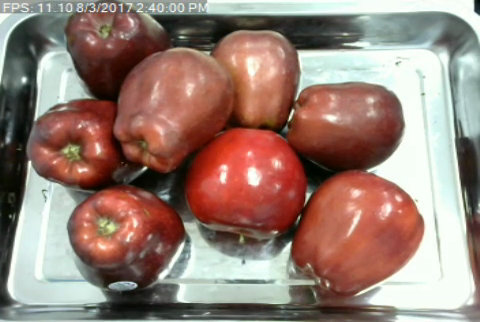Apple: (288, 166, 426, 300), (111, 43, 236, 170), (186, 125, 308, 240), (64, 182, 188, 292), (24, 94, 148, 194), (284, 78, 406, 174), (62, 0, 173, 102), (208, 26, 304, 134)
